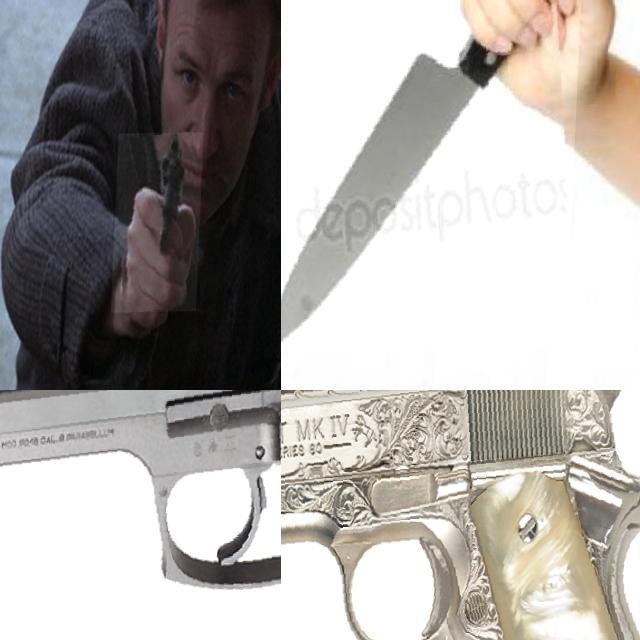-: (281, 0, 584, 352)
gun-knife-thesis - v11 Yolov5 augmented: (281, 390, 640, 640), (0, 390, 281, 640), (116, 134, 207, 314)
